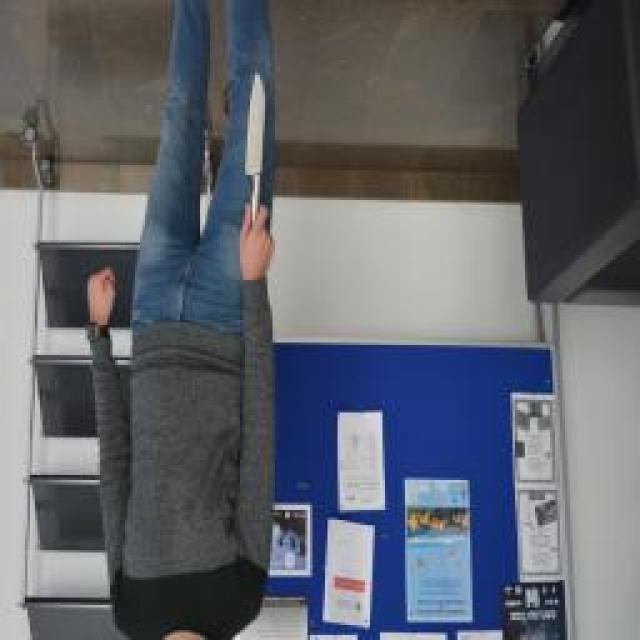knife: (242, 65, 270, 237)
